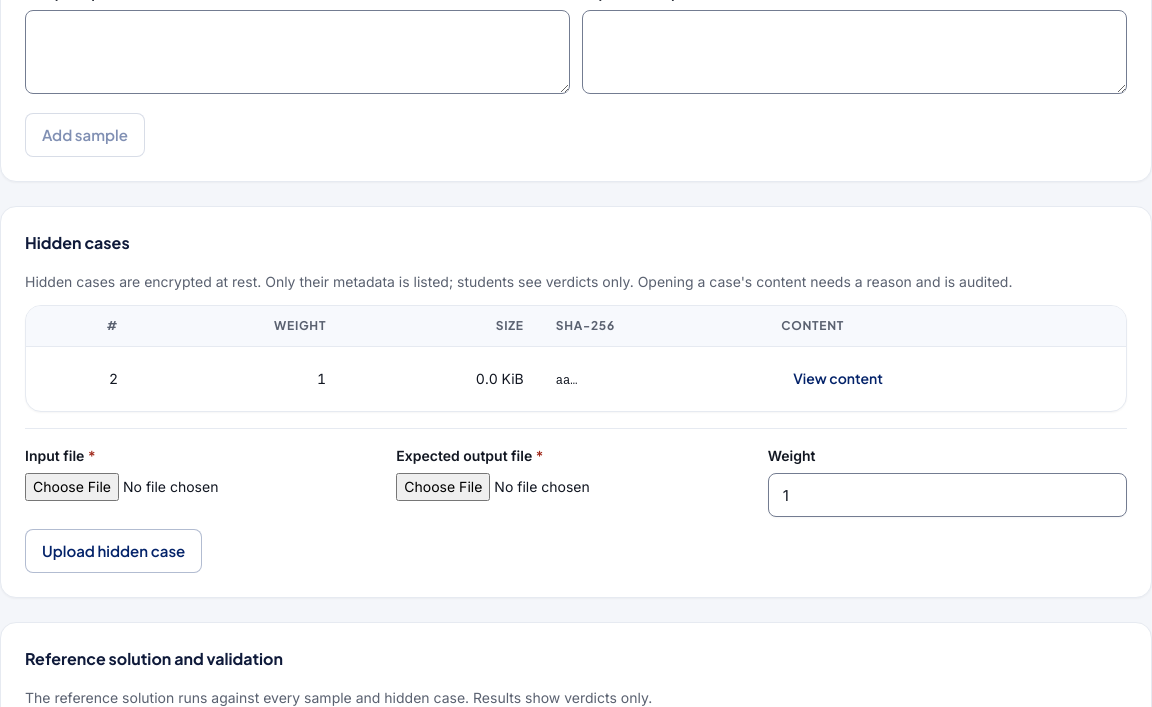
Scenario: CodingProblemEditor validation and hidden content (COD-17/18) › asks for a reason before issuing short-lived hidden-case links
(page scrolled)
Click the button with aria-label "View content of hidden case 2": x=838, y=379 left=781, top=361, right=895, bottom=397
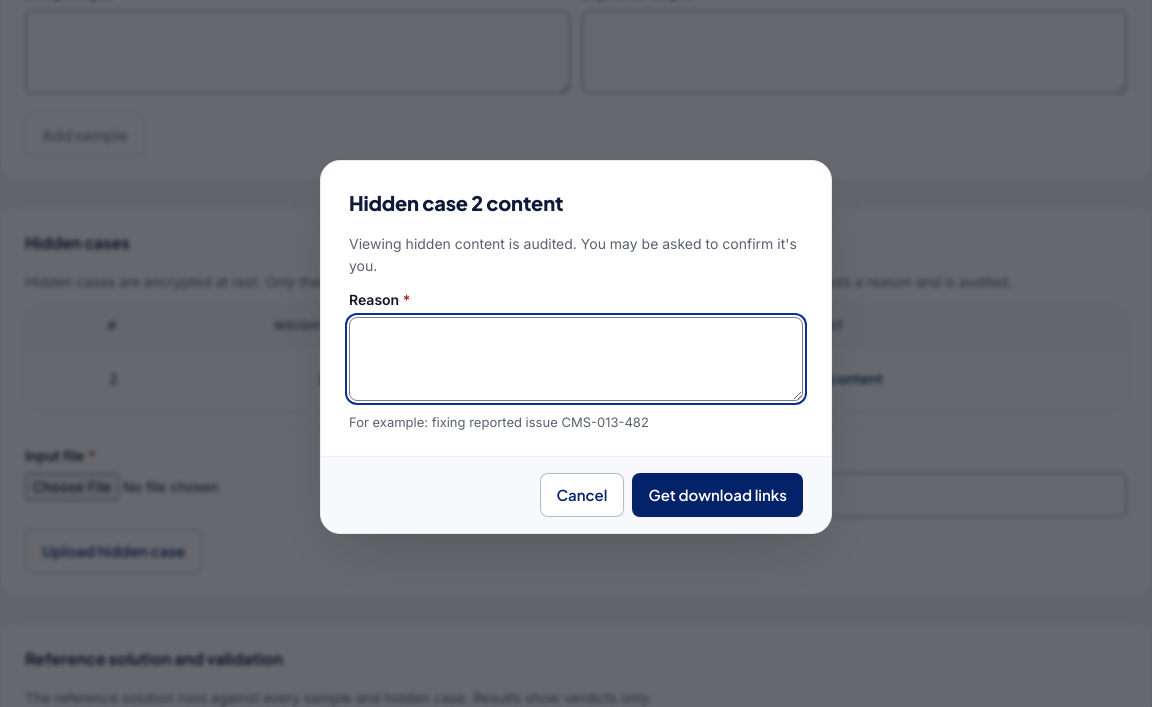
In the text box labelled "Reason *": x=576, y=359 left=349, top=317, right=803, bottom=401, type "short"
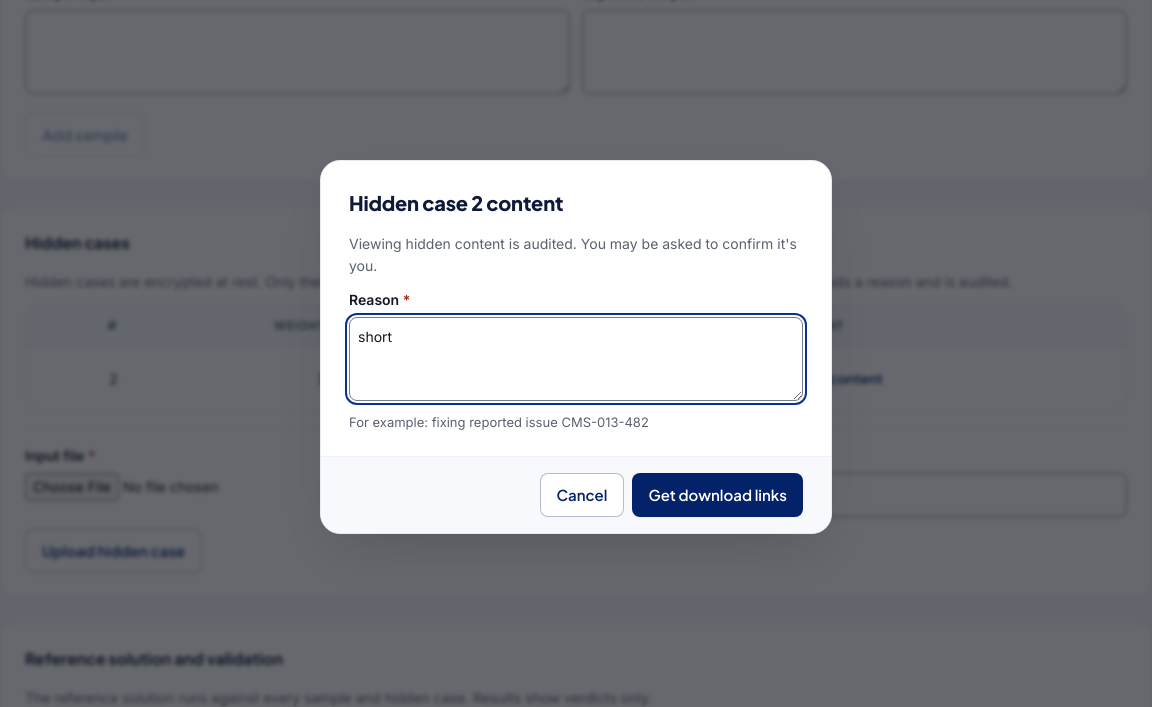
Click the button "Get download links": x=718, y=495 left=632, top=473, right=803, bottom=517
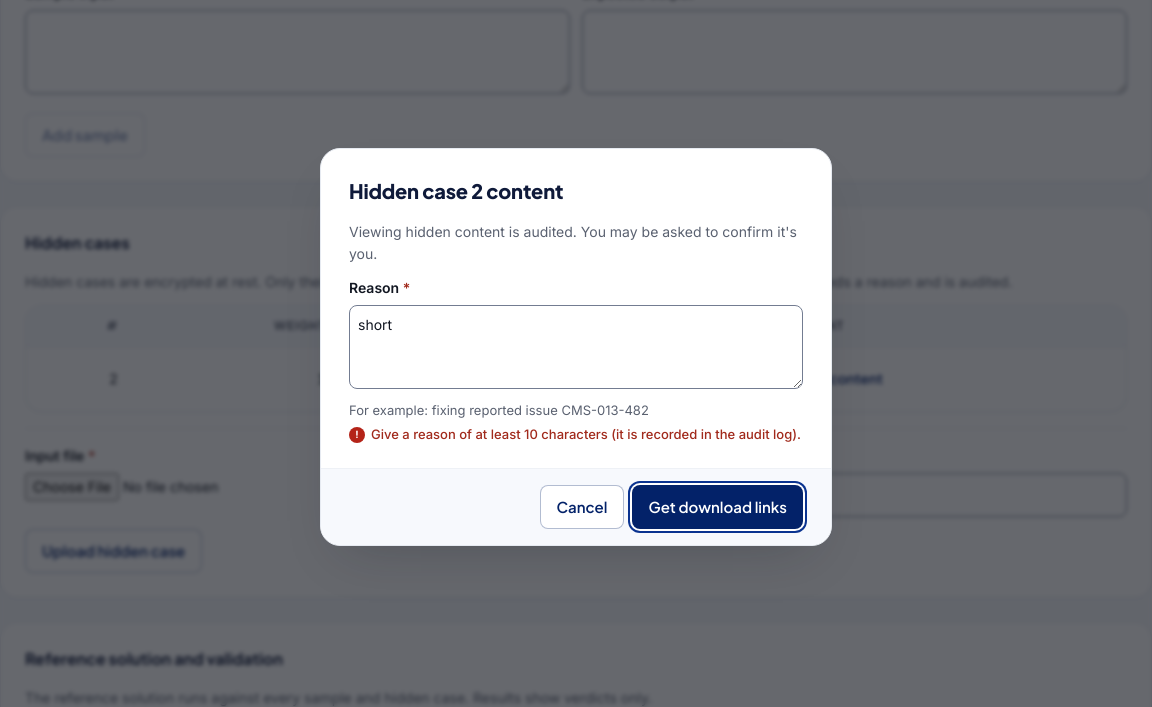
Expected: the text "at least 10 characters" is shown, left=371, top=426, right=801, bottom=442
In the text box labelled "Reason *": x=576, y=347 left=349, top=305, right=803, bottom=389, type " — fixing reported issue"
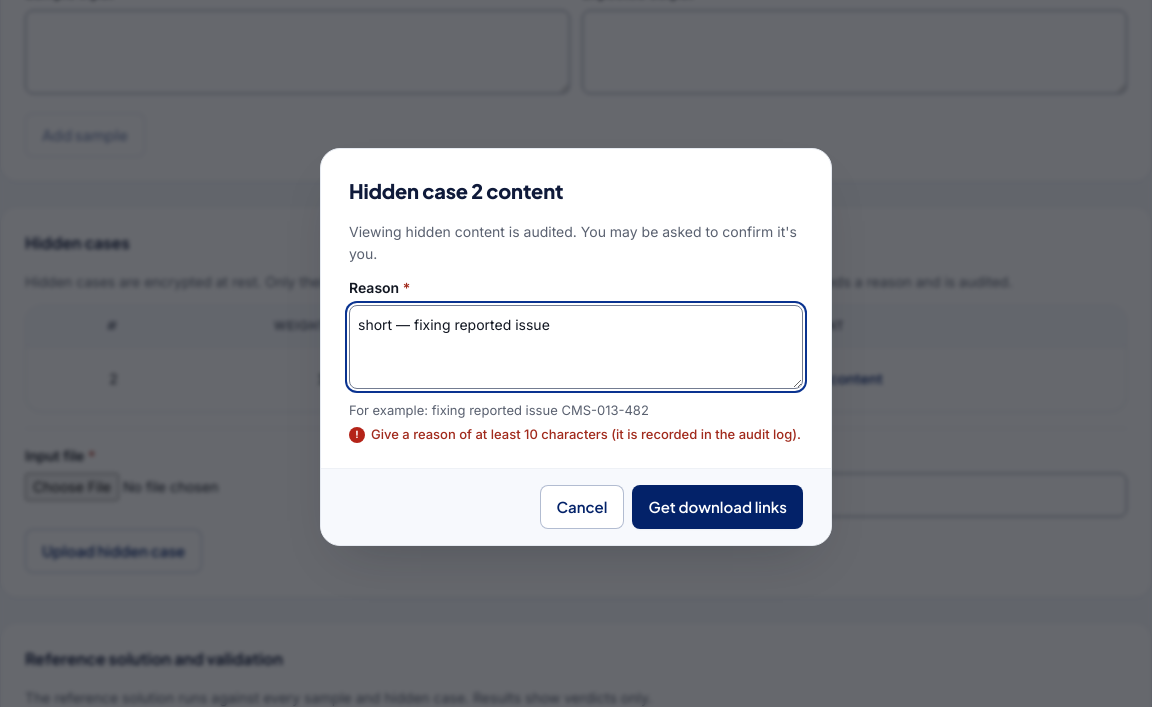
Click the button "Get download links": x=718, y=507 left=632, top=485, right=803, bottom=529
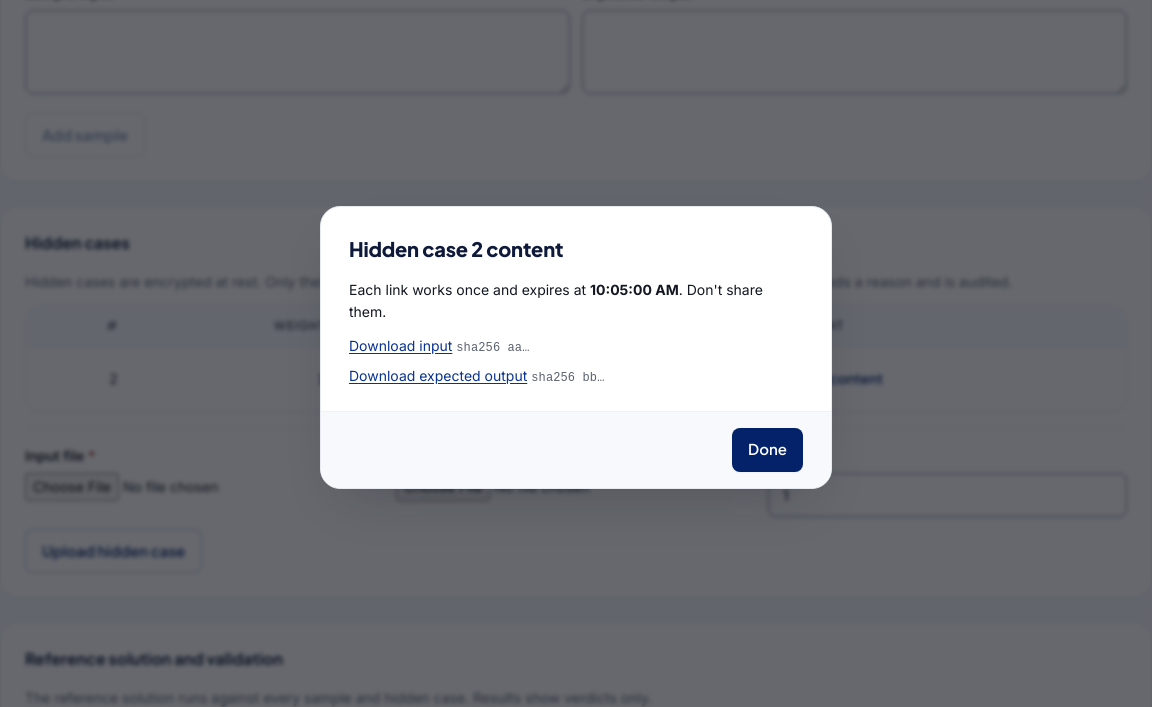
Expected: the link "Download expected output" is shown, left=349, top=366, right=527, bottom=384
